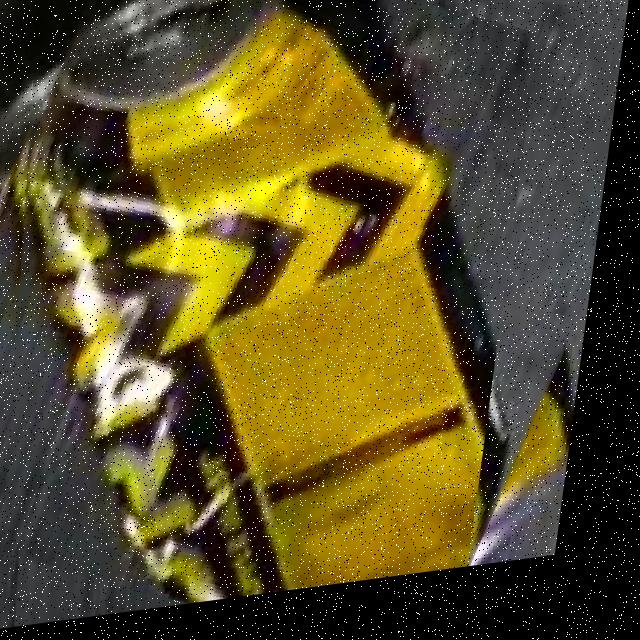can: (31, 0, 498, 611)
